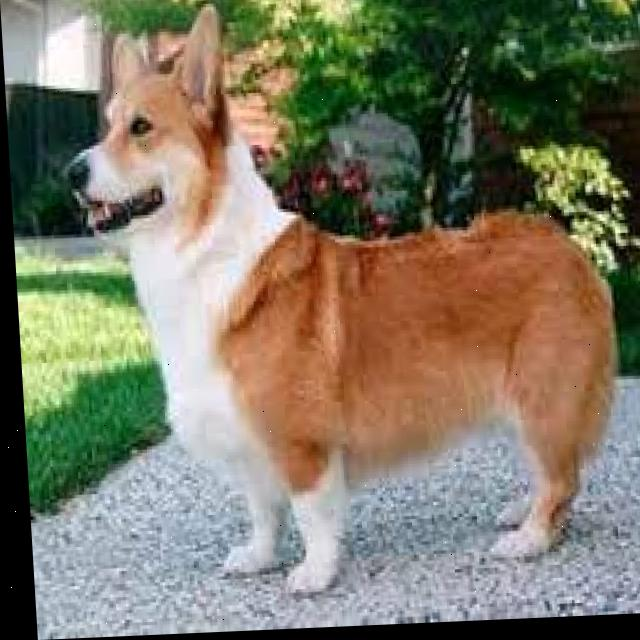CORGI: (61, 8, 631, 612)
